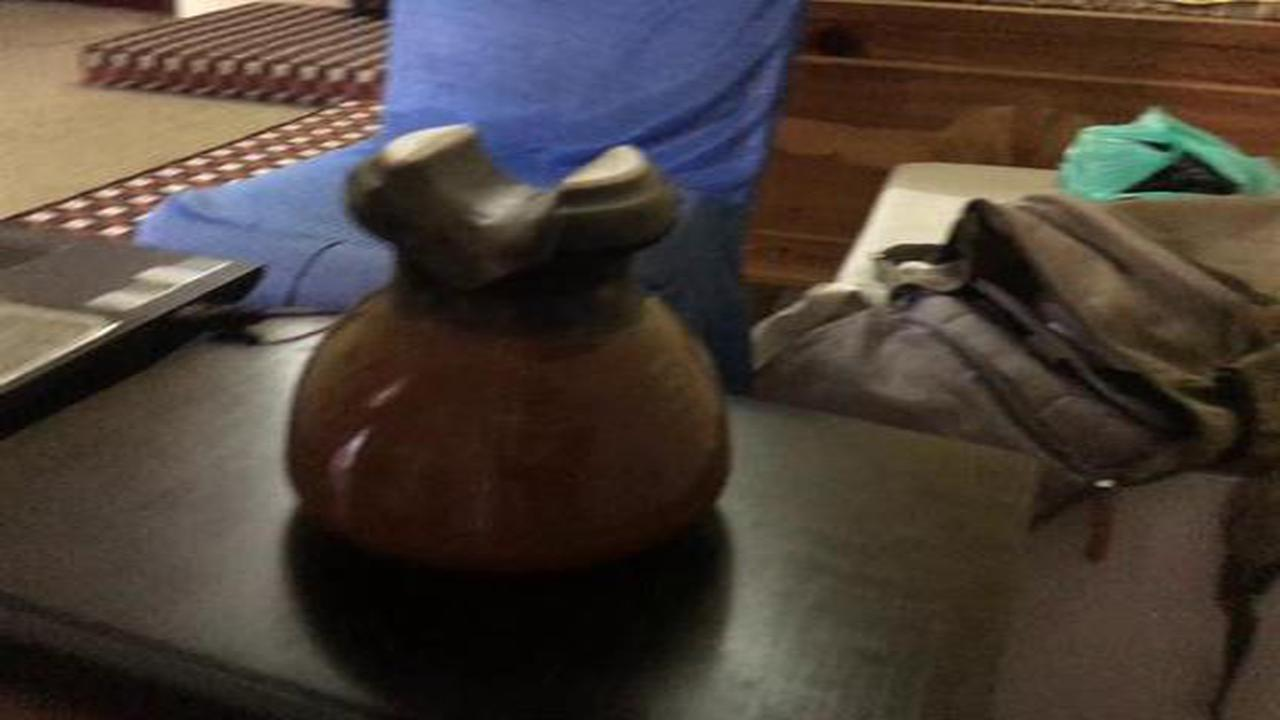insulator_pin: (268, 108, 754, 599)
